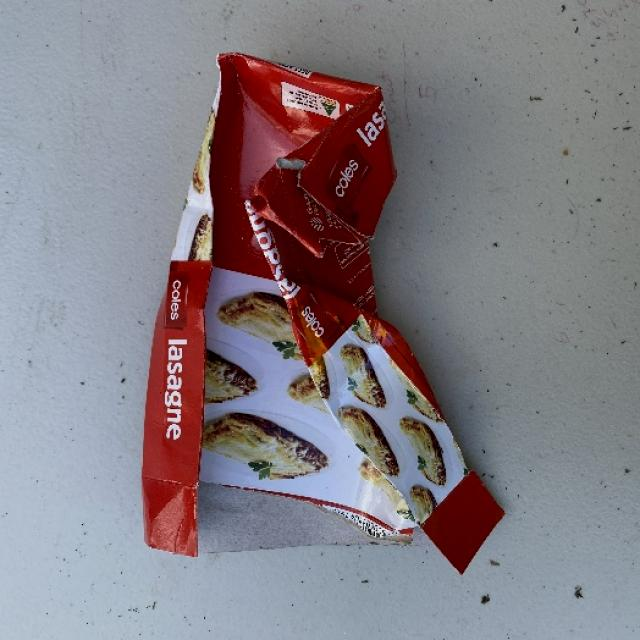kertas: (140, 24, 512, 600)
